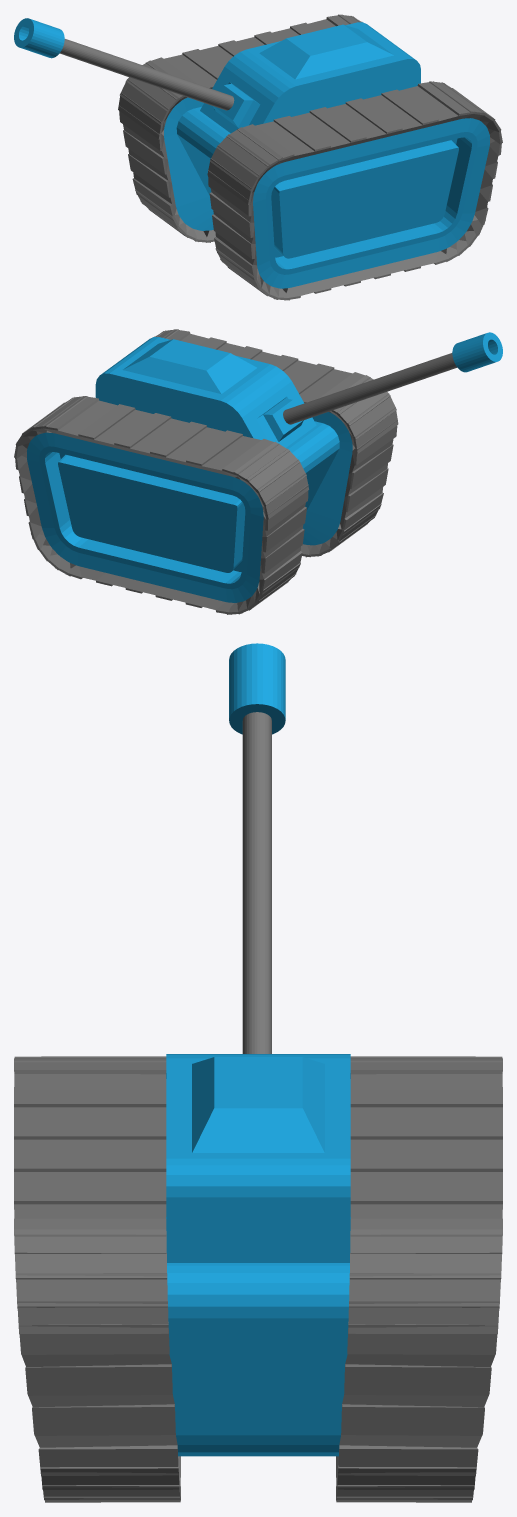
Rendered from tank.glb.
The picture shows the model from 3 angles, top to bottom: view 1: azimuth 30°, elevation 25°; view 2: azimuth 150°, elevation 25°; view 3: azimuth 270°, elevation 25°; orthographic projection. The views are drawn at different scales.
Visible parts, largest first — view 1: Cube, Track, Tube; view 2: Cube, Track, Tube; view 3: Track, Cube, Tube.
Part boxes in pixels (x1,y1,x2,y2): Cube: (164, 22, 489, 288); Track: (118, 14, 502, 300); Tube: (14, 18, 234, 110); Cube: (27, 337, 352, 602); Track: (14, 329, 398, 614); Tube: (283, 332, 502, 424); Track: (14, 1056, 502, 1502); Cube: (166, 1054, 350, 1456); Tube: (229, 643, 285, 1053).
Bounding box in the file's own units: 3.88 × 2.54 × 2.12.
